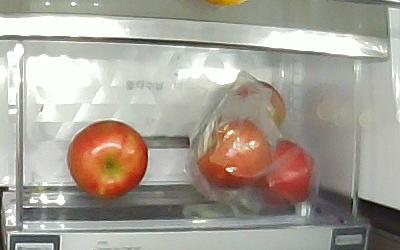apple: (67, 120, 149, 202)
apple_vinyl: (196, 120, 272, 190), (263, 141, 315, 206), (233, 80, 284, 127)
